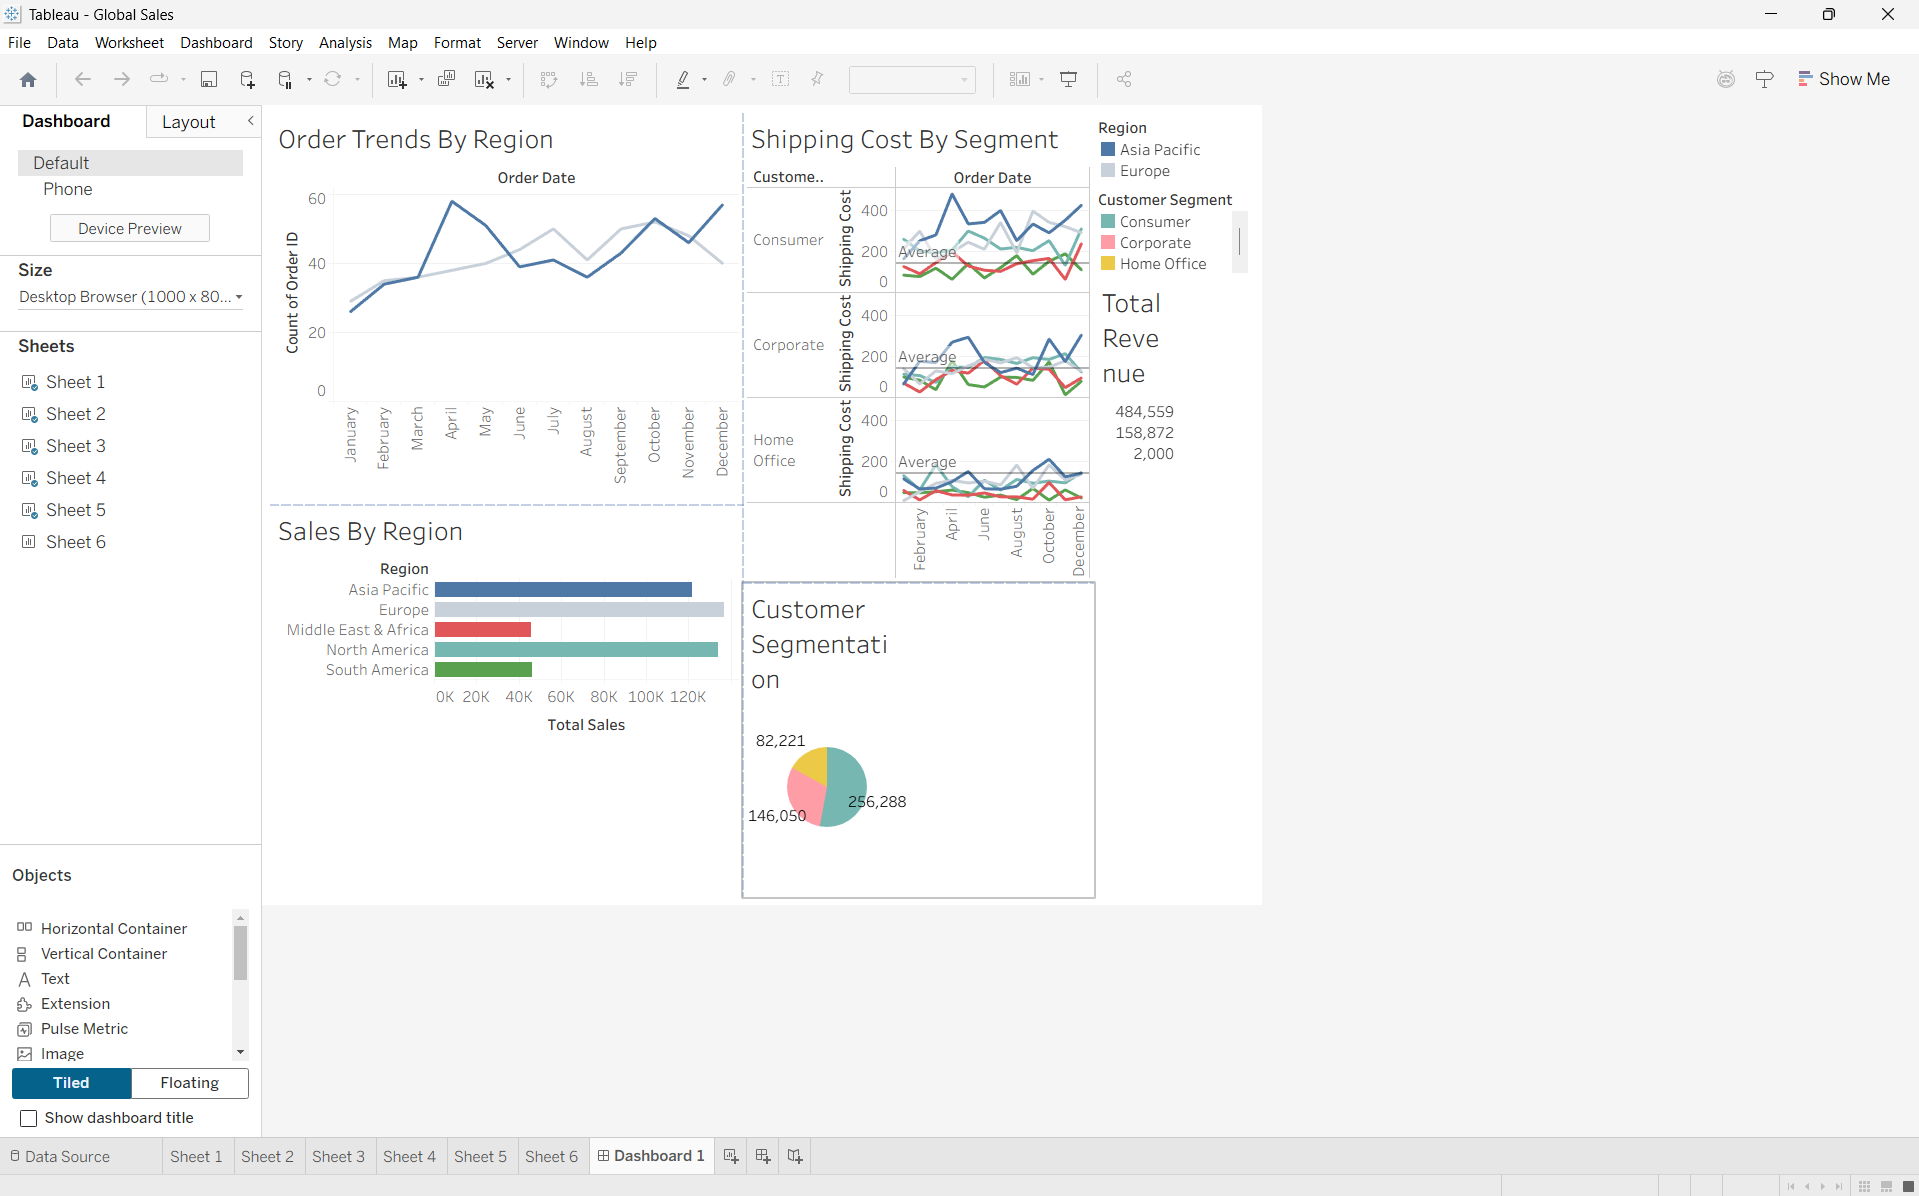

This screenshot's page, from the dashboard's own definition file:
{"tool":"tableau","page":{"name":"Dashboard 1","canvas":[1000,800],"ordinal":0},"visuals":[{"type":"worksheet","title":"Sheet 2","mark":"Automatic","rows":["Order_ID"],"cols":["Order_Date"],"box":[8,8,473,392]},{"type":"worksheet","title":"Sheet 4","mark":"Automatic","rows":["Customer_Segment","Shipping_Cost"],"cols":["Order_Date"],"box":[481,8,351,470]},{"type":"legend","title":"Sheet 2","param":"[federated.0m3y9hr1rku0kp17rjwyt13ybceh].[none:Region:nk]","box":[832,8,160,72]},{"type":"legend","title":"Sheet 3","param":"[federated.0m3y9hr1rku0kp17rjwyt13ybceh].[none:Customer_Segment:nk]","box":[832,80,160,92]},{"type":"worksheet","title":"Sheet 5","mark":"Text","box":[832,172,160,524]},{"type":"worksheet","title":"Sheet 1","mark":"Automatic","rows":["Region"],"cols":["Total_Sales"],"box":[8,400,473,392]},{"type":"worksheet","title":"Sheet 3","mark":"Pie","box":[481,478,351,314]}]}

Visuals, with their boxes on the page's 1000x800 design canvas (x1, y1, x2, y2). These are canvas units, not pixel positions in the 1919x1196 screenshot, which may show the page scaled, cropped or inside an application window:
"Sheet 2" worksheet: bbox(8, 8, 481, 400)
"Sheet 4" worksheet: bbox(481, 8, 832, 478)
"Sheet 2" legend: bbox(832, 8, 992, 80)
"Sheet 3" legend: bbox(832, 80, 992, 172)
"Sheet 5" worksheet (Text marks): bbox(832, 172, 992, 696)
"Sheet 1" worksheet: bbox(8, 400, 481, 792)
"Sheet 3" worksheet (Pie marks): bbox(481, 478, 832, 792)
